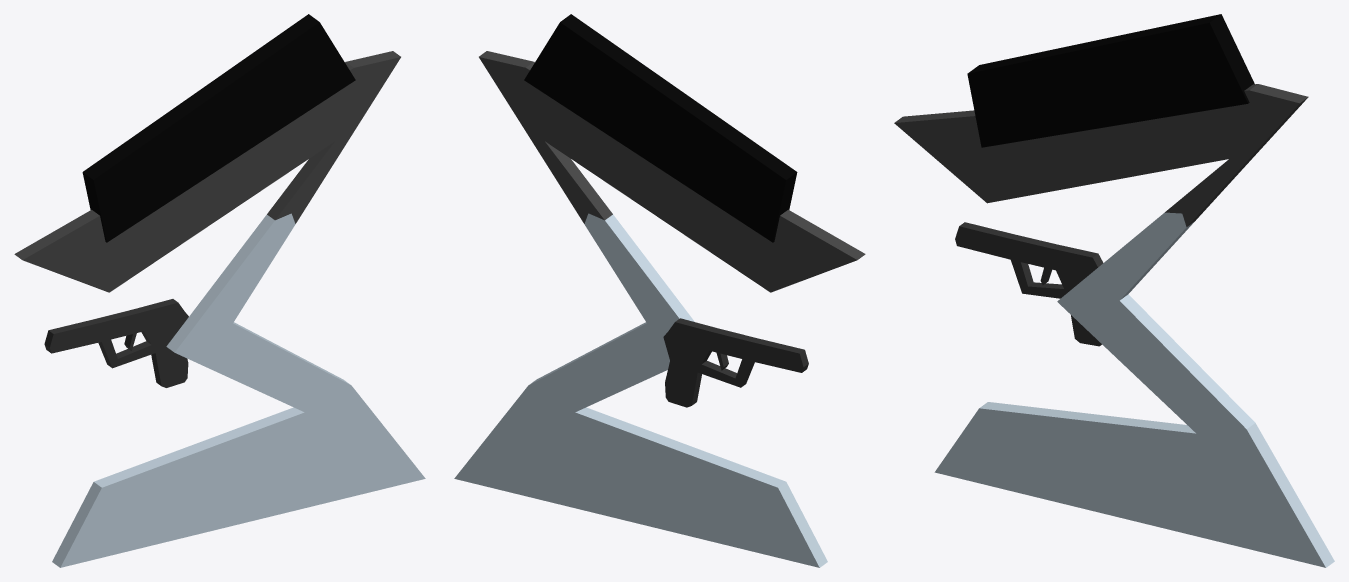
3 views of the same model, side by side, from view 1: azimuth 30°, elevation 25°; view 2: azimuth 150°, elevation 25°; view 3: azimuth 330°, elevation 25° (orthographic). The views are drawn at different scales.
Visible parts, largest first — view 1: 3, 3.001, gun; view 2: 3, 3.001, gun; view 3: 3, 3.001, gun.
Boxes of the visible parts, x1,y1,x2,y2 form: 3: (14, 51, 425, 567); 3.001: (82, 14, 355, 242); gun: (44, 299, 188, 387); 3: (454, 51, 865, 567); 3.001: (524, 14, 797, 242); gun: (663, 318, 808, 407); 3: (894, 84, 1334, 567); 3.001: (967, 14, 1254, 147); gun: (955, 222, 1103, 346).
Bounding box in the file's own units: 157 × 180 × 14.51.
